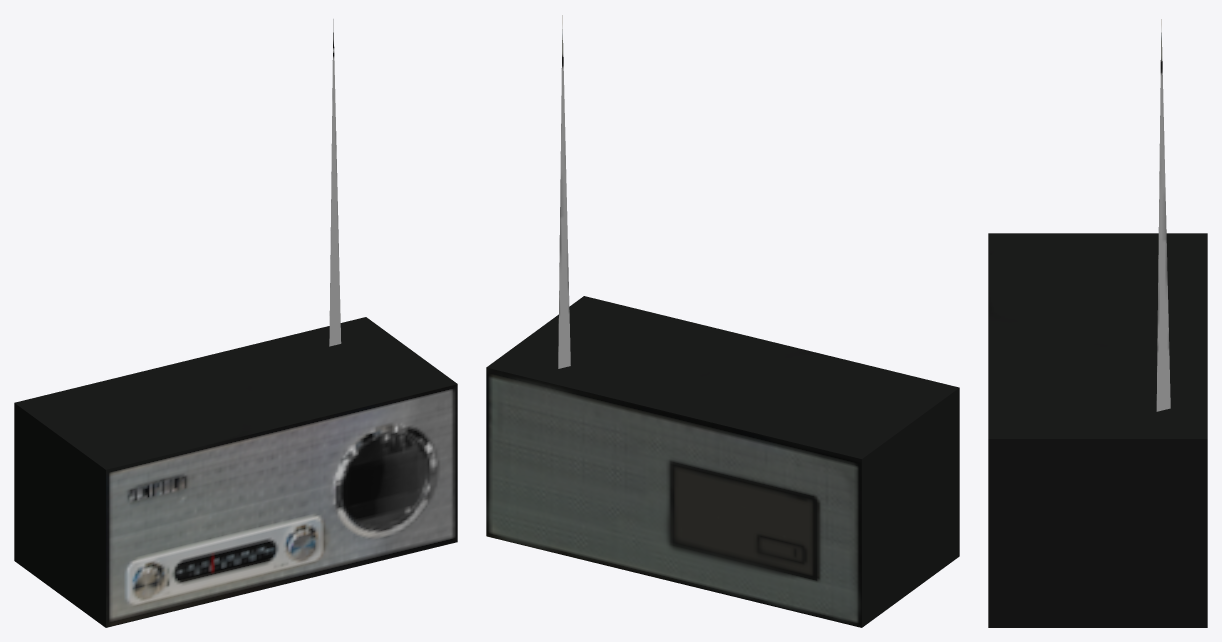
Rendered from radio.glb.
3 renders of one model, left to right at view 1: azimuth 30°, elevation 25°; view 2: azimuth 150°, elevation 25°; view 3: azimuth 270°, elevation 25°, orthographic. The views are drawn at different scales.
Visible parts, largest first — view 1: radio; view 2: radio; view 3: radio.
Part boxes in pixels (box(x1,y1,x2,y2)): radio: box(14, 19, 457, 627); radio: box(486, 15, 959, 627); radio: box(988, 19, 1207, 627).
Size of the model in its own units: 0.526 by 0.6969 by 0.2372.
Materials: 1 (1 with a texture image).
